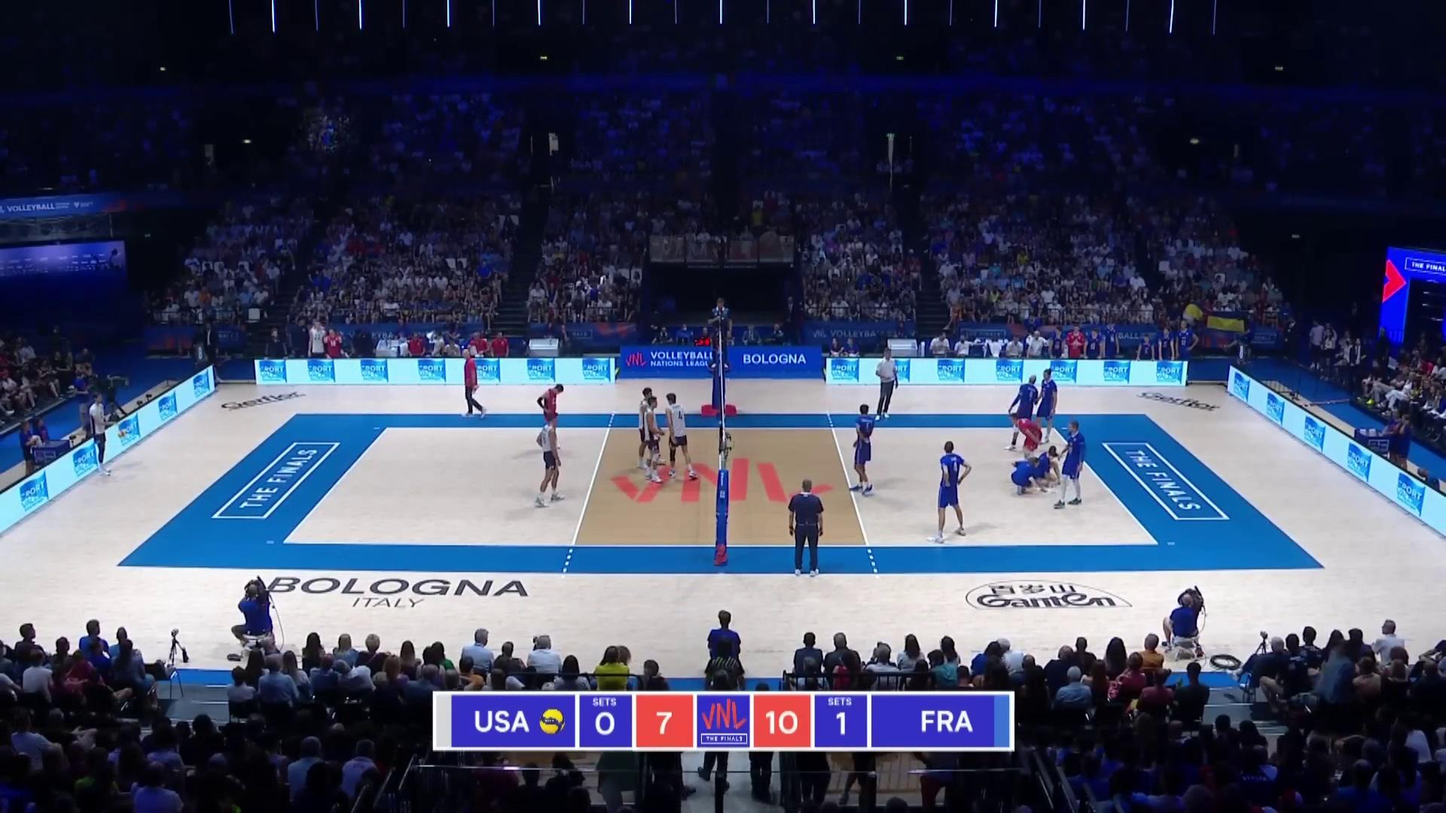player: (931, 439, 970, 543), (534, 413, 565, 506), (848, 405, 879, 497), (663, 392, 695, 480), (1057, 420, 1086, 508), (87, 395, 118, 476), (1007, 375, 1038, 452), (636, 387, 665, 468), (643, 397, 666, 486), (535, 383, 565, 449), (1035, 369, 1057, 447), (1009, 414, 1042, 458)
refree: (786, 479, 825, 576), (711, 298, 732, 368)
